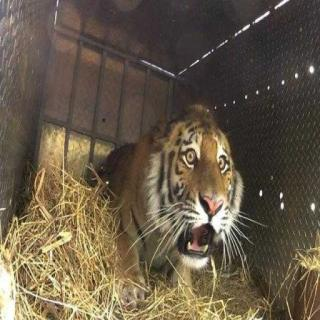Tiger: (83, 80, 278, 288)
